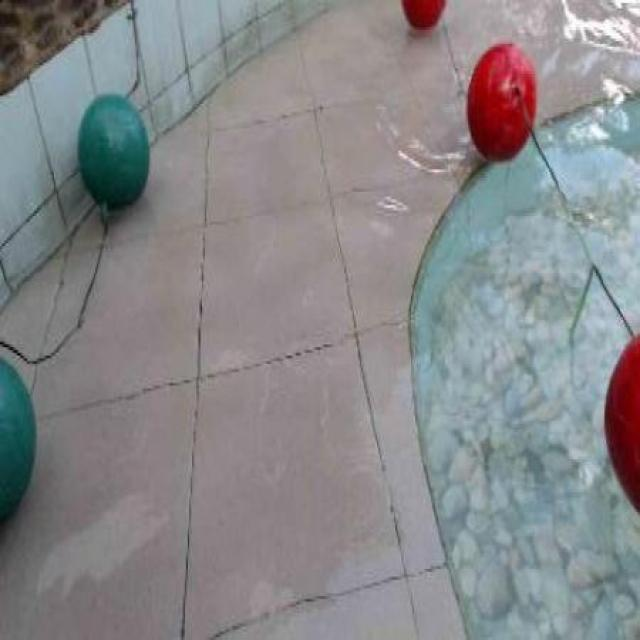buoy: (463, 44, 537, 164), (78, 92, 150, 210), (604, 334, 639, 514), (1, 358, 36, 522)
